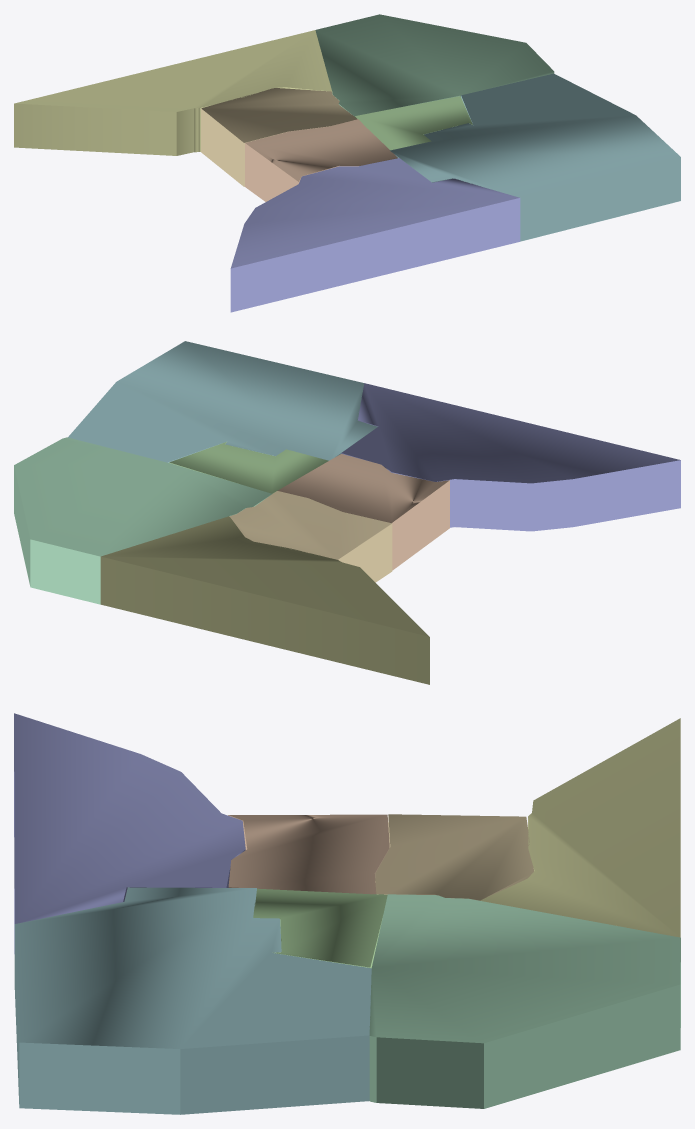
3 renders of one model, top to bottom at view 1: azimuth 30°, elevation 25°; view 2: azimuth 150°, elevation 25°; view 3: azimuth 270°, elevation 25°, orthographic. The views are drawn at different scales.
Visible parts, largest first — view 1: cosy_and_warm_1, lost_soul_1, hopeful_journey_1, a_new_generation_1, winter_light_1, indy_racing_1, a_girl_from_osaka_1; view 2: hopeful_journey_1, lost_soul_1, cosy_and_warm_1, a_new_generation_1, indy_racing_1, winter_light_1, a_girl_from_osaka_1; view 3: cosy_and_warm_1, a_new_generation_1, lost_soul_1, hopeful_journey_1, winter_light_1, indy_racing_1, a_girl_from_osaka_1.
Part boxes in pixels (<box>): cosy_and_warm_1: <box>390,73,680,241</box>; lost_soul_1: <box>230,158,520,312</box>; hopeful_journey_1: <box>14,30,332,155</box>; a_new_generation_1: <box>315,14,554,116</box>; winter_light_1: <box>201,88,357,186</box>; indy_racing_1: <box>245,119,397,201</box>; a_girl_from_osaka_1: <box>354,96,472,150</box>; hopeful_journey_1: <box>100,516,429,684</box>; lost_soul_1: <box>341,383,680,531</box>; cosy_and_warm_1: <box>68,341,377,462</box>; a_new_generation_1: <box>14,437,271,604</box>; indy_racing_1: <box>277,454,449,570</box>; winter_light_1: <box>229,491,392,582</box>; a_girl_from_osaka_1: <box>169,442,328,493</box>; cosy_and_warm_1: <box>14,887,371,1114</box>; a_new_generation_1: <box>369,894,680,1108</box>; lost_soul_1: <box>14,713,245,953</box>; hopeful_journey_1: <box>480,718,680,937</box>; winter_light_1: <box>375,814,533,900</box>; indy_racing_1: <box>228,814,389,894</box>; a_girl_from_osaka_1: <box>253,888,387,968</box>.
Size of the model in its own units: 779 by 71 by 653.
